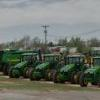Tractor: (19, 43, 100, 91)
